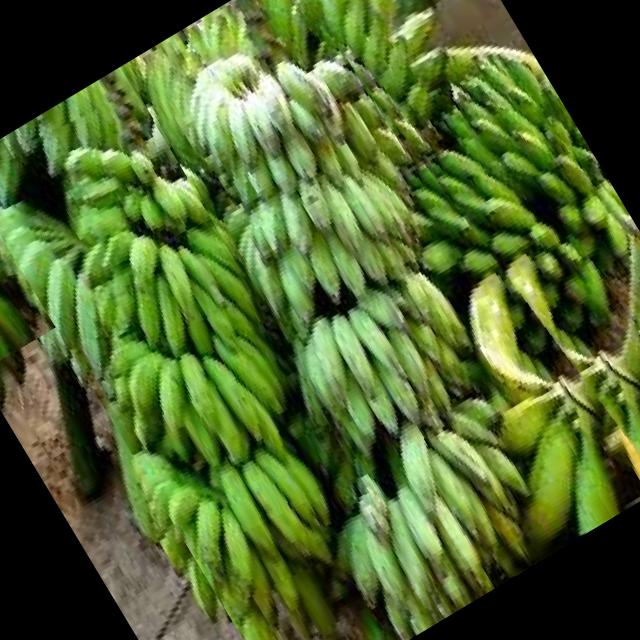Organic: (124, 0, 617, 614), (0, 75, 451, 640), (281, 0, 640, 518), (0, 171, 56, 373)
